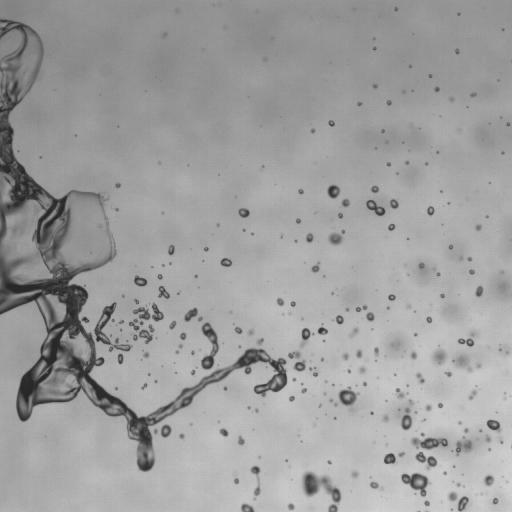droplet: (301, 471, 341, 511), (410, 432, 447, 470), (129, 303, 163, 343), (400, 472, 429, 497), (338, 386, 358, 411), (452, 352, 472, 372), (447, 492, 468, 511), (455, 436, 473, 454), (458, 330, 477, 346), (431, 347, 447, 365), (328, 230, 344, 245), (486, 419, 501, 432), (184, 308, 198, 321), (327, 185, 340, 198), (158, 286, 170, 298), (134, 275, 147, 286), (160, 424, 171, 437), (293, 360, 305, 371), (395, 388, 407, 399), (384, 453, 396, 464), (483, 475, 494, 486), (241, 503, 254, 511), (238, 208, 249, 217), (288, 350, 300, 358), (317, 325, 327, 334), (220, 258, 231, 266), (309, 367, 318, 376), (311, 262, 319, 272), (475, 286, 483, 296), (416, 373, 424, 383), (468, 389, 476, 399), (341, 198, 349, 207), (390, 199, 398, 208), (305, 233, 313, 242), (366, 312, 374, 321), (335, 315, 343, 324), (219, 428, 228, 436), (370, 481, 380, 488), (117, 353, 123, 364), (276, 298, 284, 306), (427, 206, 434, 215), (168, 245, 174, 255), (169, 321, 176, 329), (410, 351, 417, 359), (342, 352, 349, 360), (351, 470, 358, 478), (356, 349, 362, 358), (238, 436, 244, 445), (371, 186, 378, 193), (256, 338, 263, 345), (425, 404, 432, 411), (382, 414, 388, 422), (374, 347, 379, 356), (388, 224, 395, 230), (388, 294, 395, 300), (235, 327, 242, 333), (247, 329, 254, 335), (180, 332, 186, 339), (359, 366, 365, 373), (288, 503, 294, 510), (328, 120, 334, 126), (475, 224, 481, 230), (418, 262, 424, 268), (445, 371, 451, 377), (426, 316, 431, 323), (485, 435, 490, 442), (498, 437, 503, 443), (398, 452, 404, 457), (424, 500, 429, 506), (386, 100, 391, 105), (469, 269, 474, 274), (157, 274, 162, 279), (290, 301, 295, 306), (143, 352, 148, 357), (301, 388, 306, 393), (289, 396, 294, 401), (493, 498, 498, 503), (191, 369, 195, 375), (437, 403, 443, 407), (234, 478, 238, 484), (434, 87, 439, 91), (470, 93, 475, 97), (115, 183, 120, 187), (298, 189, 303, 193), (338, 213, 342, 218), (296, 218, 300, 223), (406, 304, 410, 309), (505, 349, 509, 354), (179, 434, 184, 438), (455, 49, 459, 53), (373, 84, 377, 88), (204, 247, 208, 251), (467, 257, 471, 261), (440, 293, 444, 297), (134, 299, 138, 303), (178, 344, 182, 348), (464, 428, 468, 432), (327, 460, 331, 464), (357, 102, 361, 105), (311, 128, 314, 132), (387, 162, 390, 166), (198, 317, 202, 320), (119, 320, 123, 323), (347, 369, 350, 373), (292, 378, 296, 381), (362, 382, 366, 385), (329, 398, 333, 401), (456, 483, 460, 486), (163, 33, 166, 36), (449, 245, 452, 248), (191, 351, 194, 354), (477, 364, 480, 367), (334, 402, 337, 405), (255, 409, 258, 412), (443, 471, 446, 474), (450, 98, 453, 100), (381, 130, 384, 132), (406, 161, 408, 164), (437, 272, 439, 275), (194, 275, 197, 277), (499, 348, 501, 351), (176, 350, 178, 353), (224, 387, 227, 389), (395, 8, 397, 10), (373, 47, 375, 49), (507, 123, 509, 125), (251, 233, 253, 235), (346, 309, 348, 311), (321, 358, 323, 360), (459, 422, 461, 424)
ligament: (0, 19, 286, 471), (201, 322, 219, 369), (400, 399, 414, 430), (250, 465, 260, 498), (366, 200, 385, 215), (300, 328, 312, 347), (18, 221, 27, 234), (349, 328, 358, 337), (355, 305, 367, 311), (141, 383, 147, 389)
